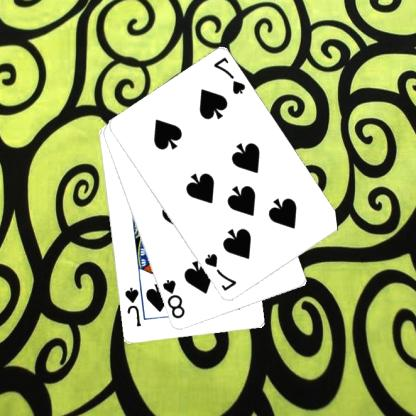7S: (212, 55, 249, 96), (203, 251, 239, 293)
8S: (161, 276, 188, 320)
JS: (123, 285, 144, 328)
